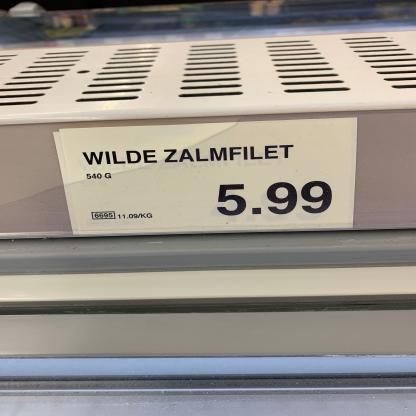prtg: (59, 116, 359, 239)
